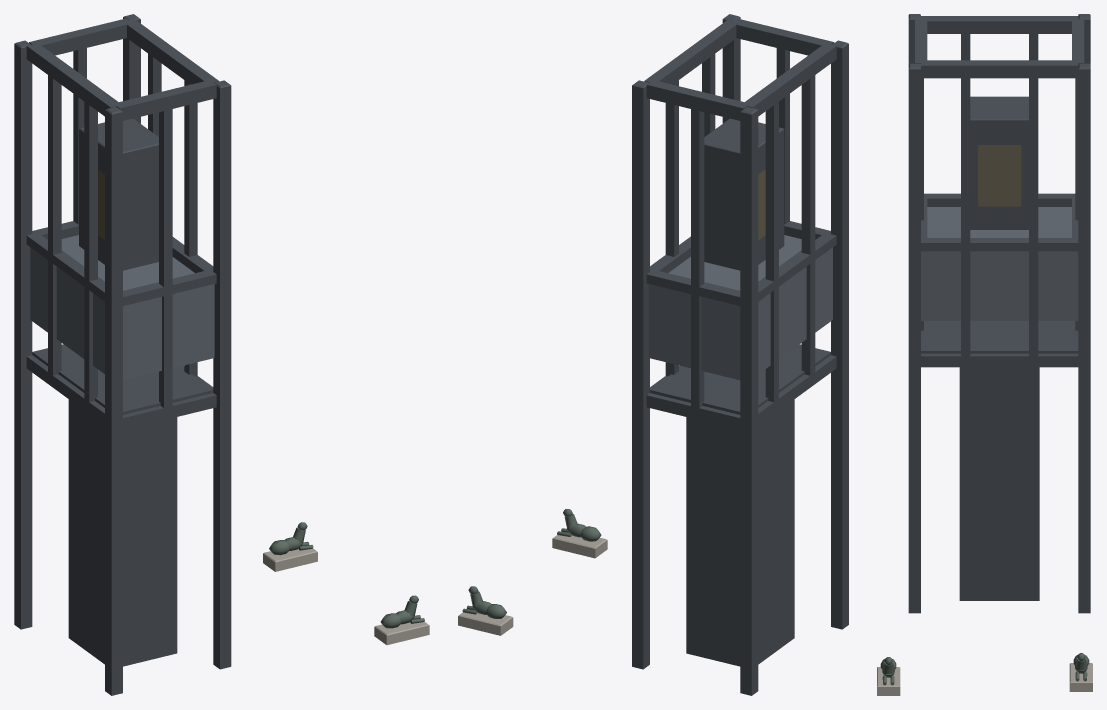
3 views of the same model, side by side, from view 1: azimuth 30°, elevation 25°; view 2: azimuth 150°, elevation 25°; view 3: azimuth 270°, elevation 25° (orthographic). The views are drawn at different scales.
Visible parts, largest first — view 1: netherlands-carillon; view 2: netherlands-carillon; view 3: netherlands-carillon.
Part boxes in pixels (box(x1,y1,x2,y2)): netherlands-carillon: box(14, 14, 429, 695); netherlands-carillon: box(458, 14, 848, 695); netherlands-carillon: box(877, 14, 1092, 695).
Bounding box in the file's own units: 21.1 × 39 × 14.
